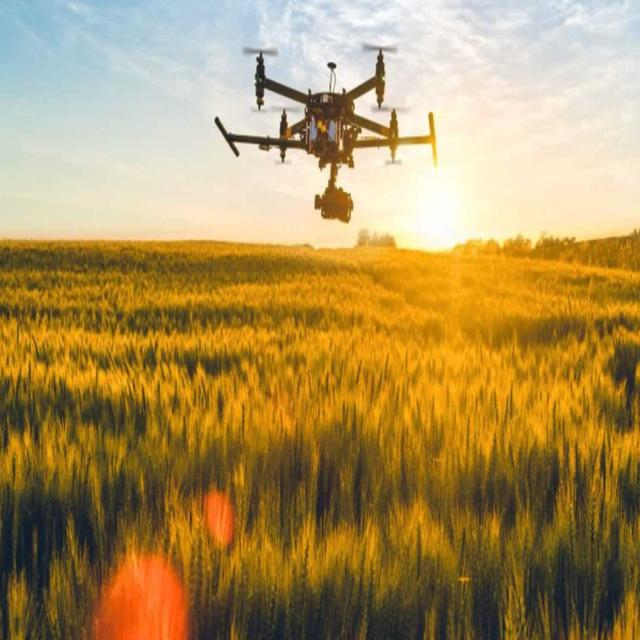drone: (212, 40, 442, 228)
